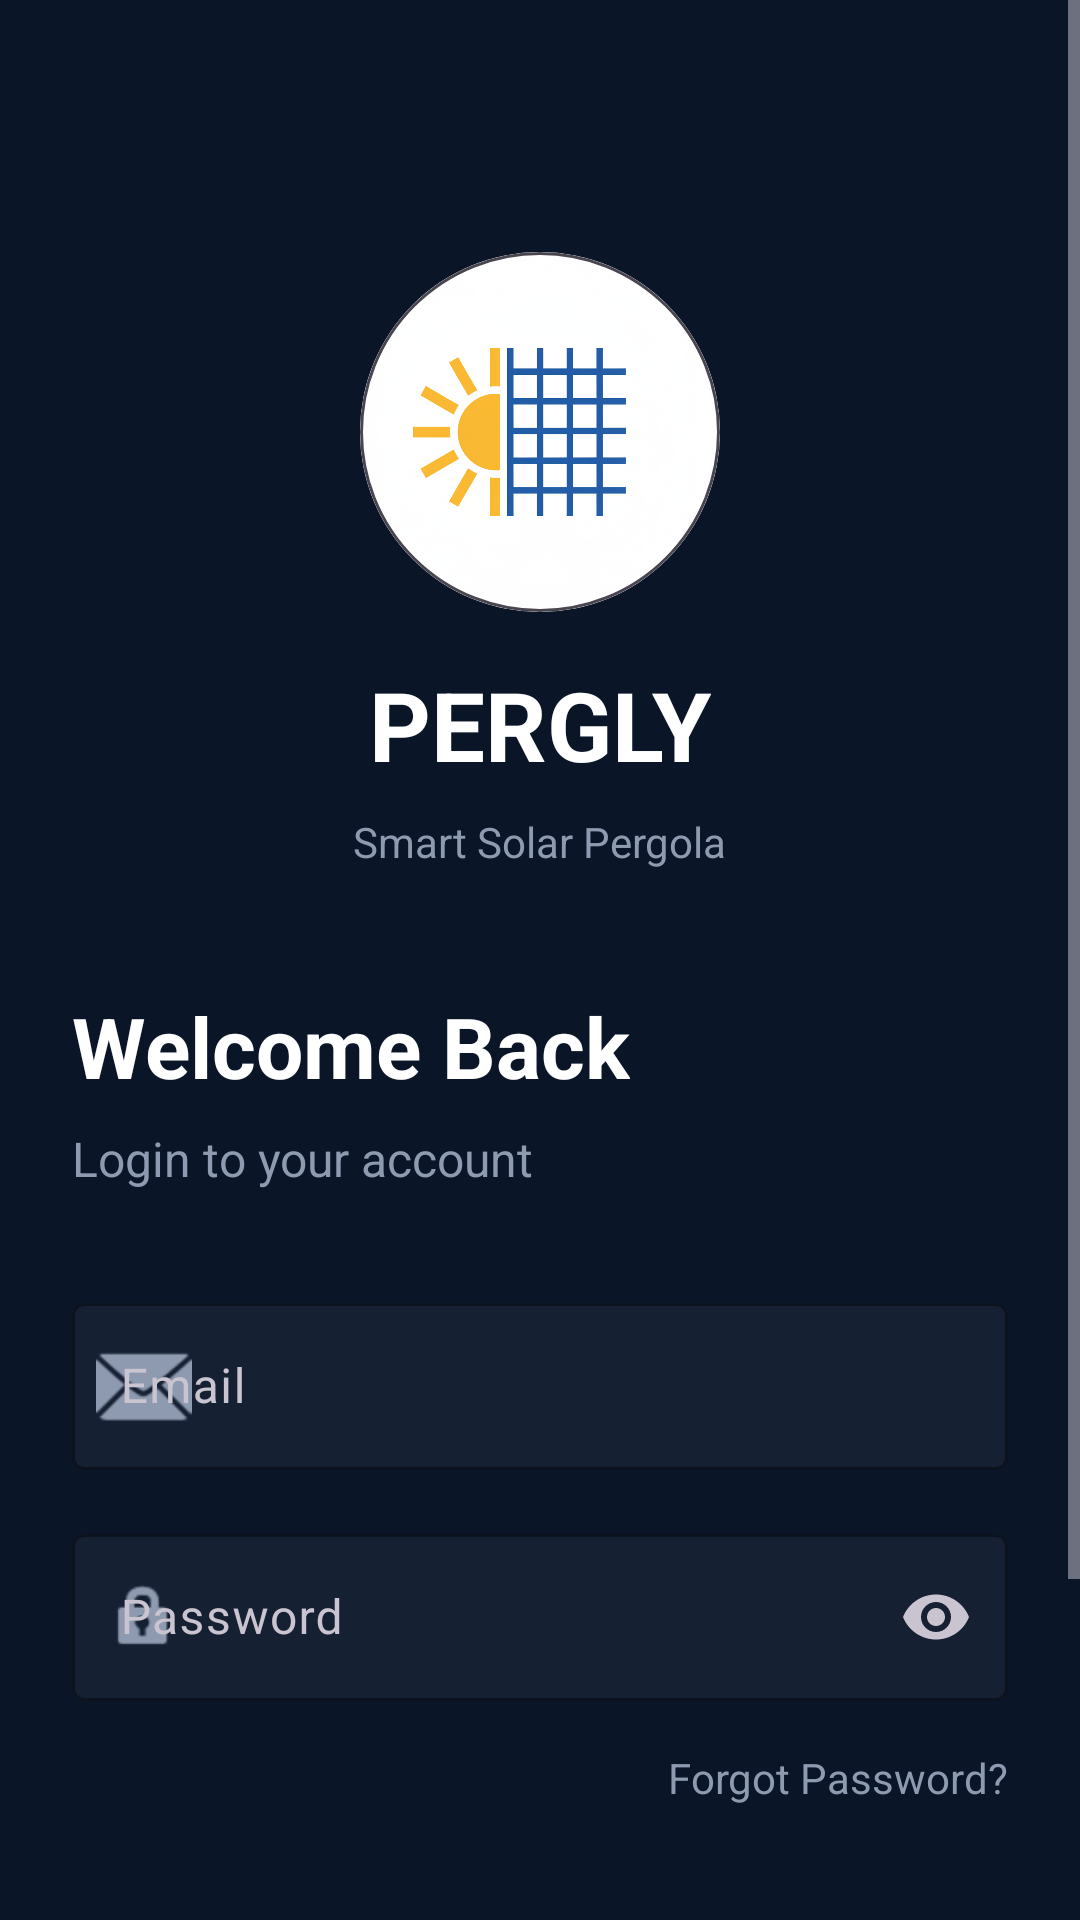

Icon bounding boxes for this 1080 x 1920 phone screenshot, format bbox(x1, y1, x2, y2):
solar grid integration: bbox(360, 252, 720, 612)
